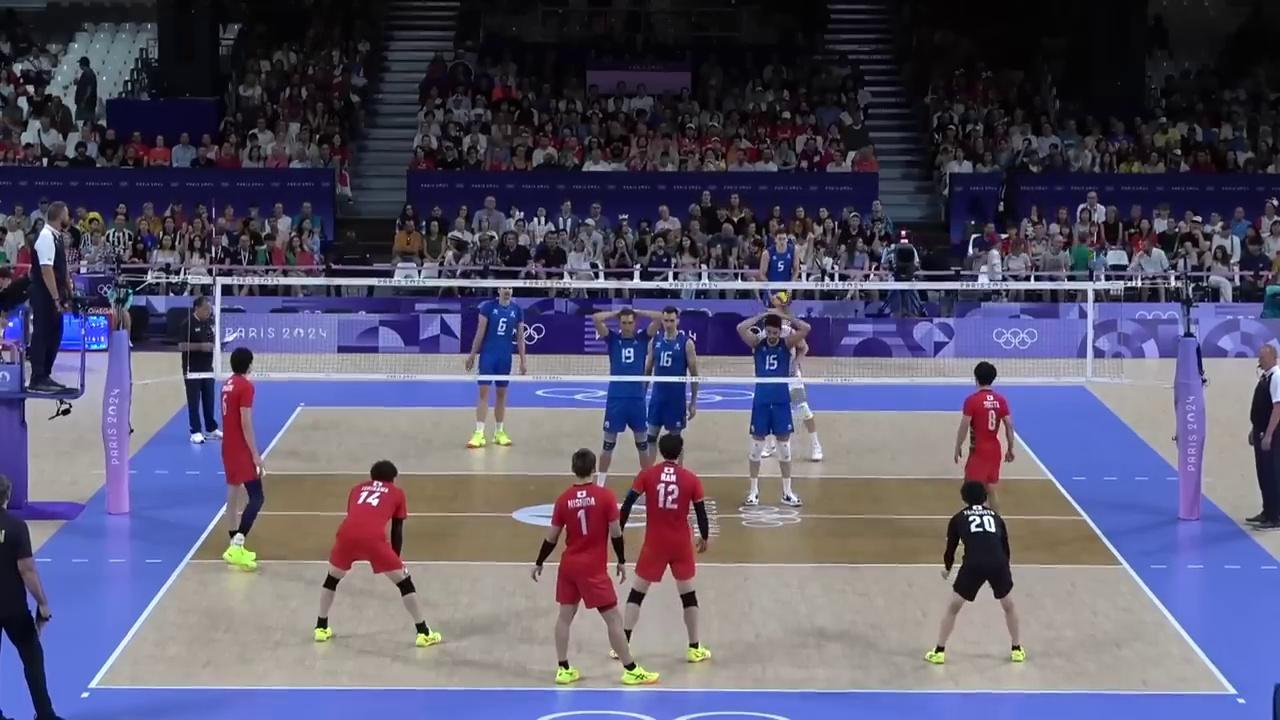ball: (770, 290, 788, 308)
